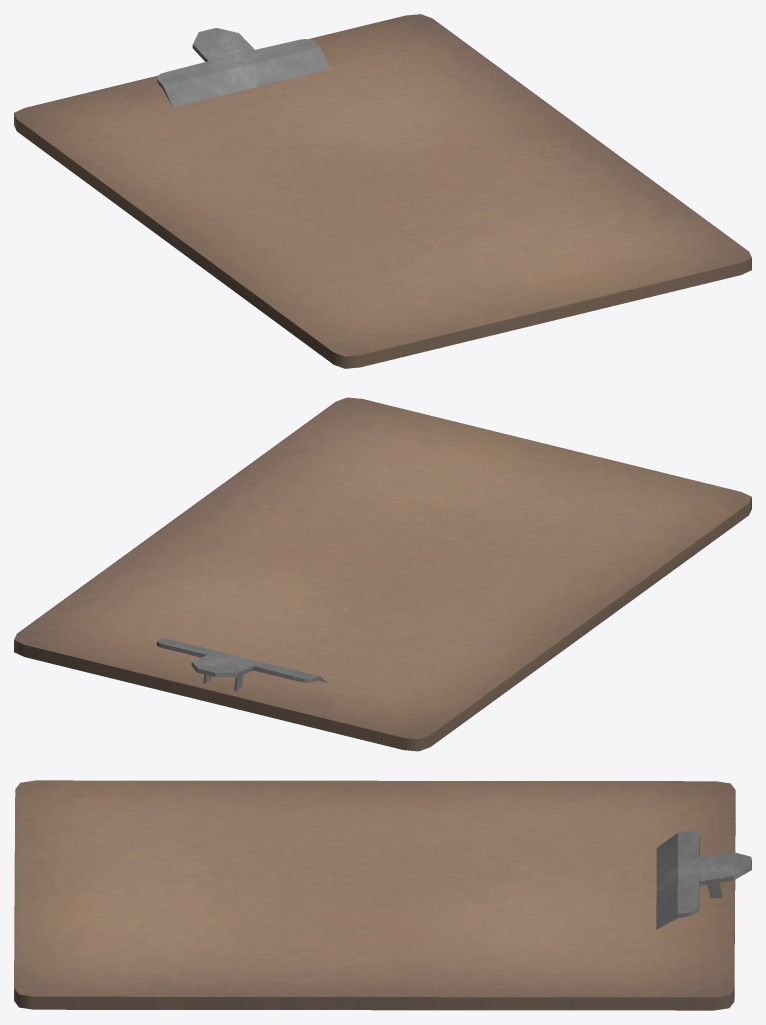
File: propClipboard.fbx
3 views of the same model, one above another, from view 1: azimuth 30°, elevation 25°; view 2: azimuth 150°, elevation 25°; view 3: azimuth 270°, elevation 25° (orthographic). The views are drawn at different scales.
Visible parts, largest first — view 1: propClipboard; view 2: propClipboard; view 3: propClipboard.
Part boxes in pixels (x1,y1,x2,y2): propClipboard: [14, 14, 751, 368]; propClipboard: [14, 397, 751, 751]; propClipboard: [14, 780, 751, 1010].
Bounding box in the file's own units: 29.02 × 2.56 × 41.71.
Materials: 1 (1 with a texture image).
